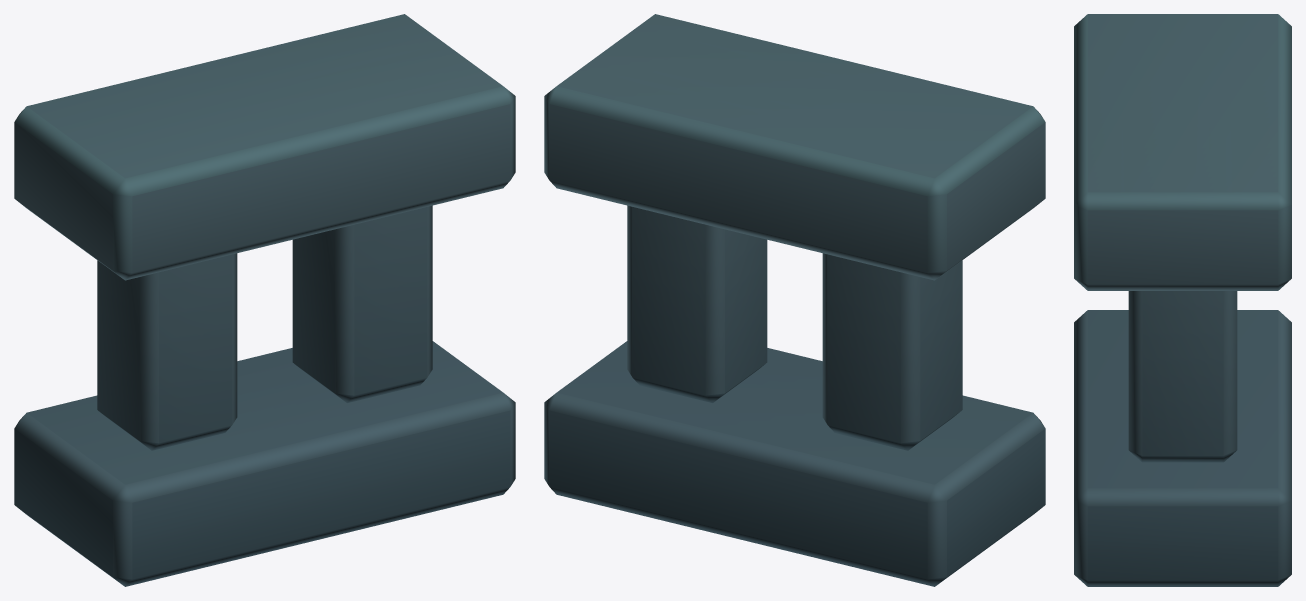
Rendered from fence_01_hue_2.fbx.
3 renders of one model, left to right at view 1: azimuth 30°, elevation 25°; view 2: azimuth 150°, elevation 25°; view 3: azimuth 270°, elevation 25°, orthographic. The views are drawn at different scales.
Parts seen in each view (by area): view 1: fence_01_hue_2; view 2: fence_01_hue_2; view 3: fence_01_hue_2.
Boxes of the visible parts, box(x1,y1,x2,y2) form: fence_01_hue_2: box(14, 14, 515, 586); fence_01_hue_2: box(544, 14, 1045, 586); fence_01_hue_2: box(1074, 14, 1291, 586).
Size of the model in its own units: 103 by 100 by 50.
